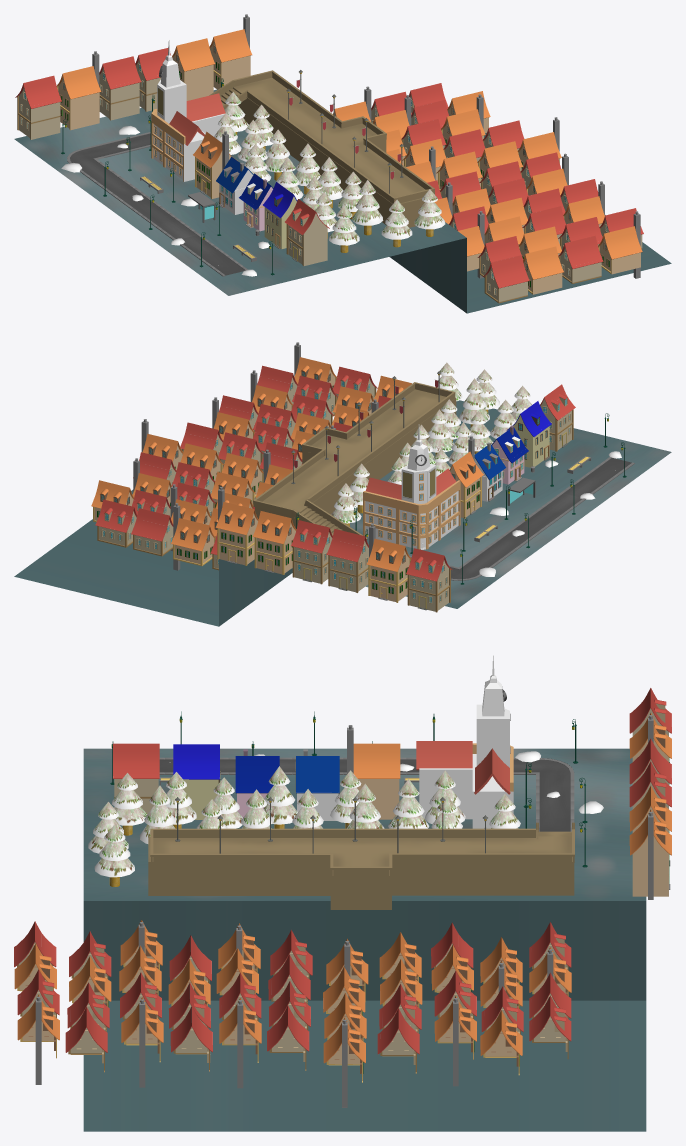
The model's file is City.fbx.
3 views of the same model, one above another, from view 1: azimuth 30°, elevation 25°; view 2: azimuth 150°, elevation 25°; view 3: azimuth 270°, elevation 25° (orthographic). The views are drawn at different scales.
Visible parts, largest first — view 1: city, Armrest, Tower, Sidewalk, house01.005, house01.010, house01.006, house01.001, house01.009, house01.007, house01.038, house01.004 (+57 smaller); view 2: city, Armrest, Tower, Sidewalk, house01.005, house01.010, house01.009, house01.006, house01.007, house01.008, house01.011, house01.003 (+49 smaller); view 3: city, Armrest, Tower, Armrest004, Sidewalk, Armrest003, house01.004, house01.009, house01.003, house01.001, house01.002, house01.054 (+62 smaller).
Boxes of the visible parts, x1,y1,x2,y2 form: city: [14, 89, 671, 313]; Armrest: [220, 77, 425, 227]; Tower: [151, 40, 225, 181]; Sidewalk: [67, 132, 247, 276]; house01.005: [56, 51, 101, 130]; house01.010: [15, 75, 61, 139]; house01.006: [99, 56, 141, 120]; house01.001: [285, 199, 329, 266]; house01.009: [209, 14, 252, 89]; house01.007: [172, 38, 215, 100]; house01.038: [598, 211, 642, 278]; house01.004: [193, 131, 237, 198]; city: [14, 400, 671, 626]; Armrest: [255, 389, 456, 534]; Tower: [363, 424, 460, 549]; Sidewalk: [409, 457, 634, 580]; house01.005: [366, 523, 411, 602]; house01.010: [406, 548, 452, 612]; house01.009: [215, 487, 258, 565]; house01.006: [326, 529, 368, 592]; house01.007: [252, 511, 296, 574]; house01.008: [291, 520, 332, 584]; house01.011: [171, 503, 215, 570]; house01.003: [506, 401, 551, 467]; city: [83, 748, 646, 1131]; Armrest: [148, 831, 574, 909]; Tower: [416, 655, 513, 828]; Armrest004: [153, 853, 571, 876]; Sidewalk: [159, 757, 574, 831]; Armrest003: [153, 828, 535, 837]; house01.004: [347, 725, 400, 819]; house01.009: [629, 809, 671, 899]; house01.003: [173, 744, 220, 819]; house01.001: [113, 743, 159, 814]; house01.002: [296, 749, 339, 820]; house01.054: [121, 997, 163, 1087].
Bounding box in the file's own units: 5266 × 2203 × 5161.
11 materials, 11 textured.
